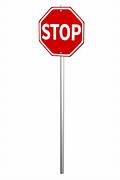stop: (37, 6, 86, 57)
